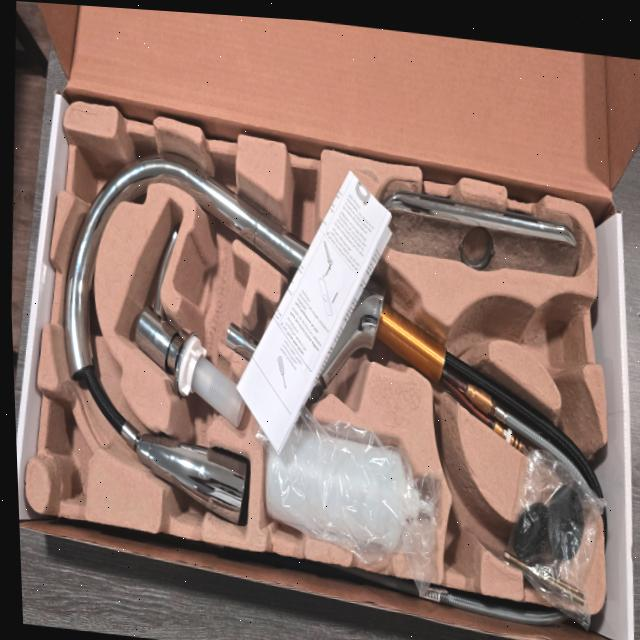1o: (65, 150, 603, 526)
2o: (133, 228, 248, 430)
3o: (266, 426, 440, 556)
4o: (378, 188, 579, 277)
5m: (529, 301, 579, 373)
6m: (440, 441, 501, 574)
7: (505, 437, 607, 626)
8: (238, 170, 393, 454)
